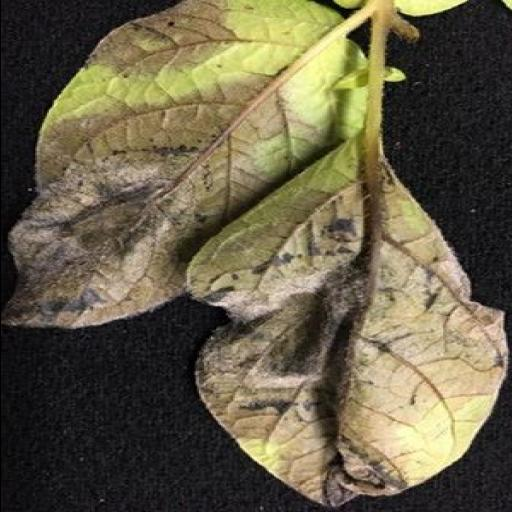disease_tomato: (2, 1, 392, 334), (178, 142, 508, 508)
